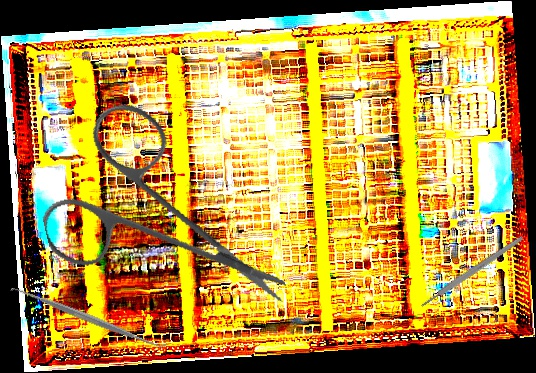Iris Scissors: (20, 75, 290, 355)
Scalpel Handle: (419, 234, 525, 309)
Spatula Surgical: (8, 277, 169, 358)
